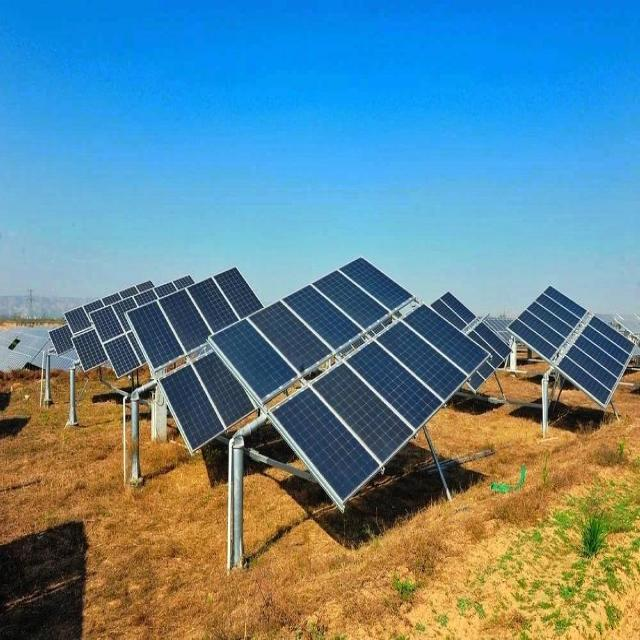no faulty: (274, 381, 379, 507), (313, 361, 411, 468), (344, 338, 442, 440), (206, 318, 296, 412), (404, 303, 488, 387), (248, 300, 332, 382), (156, 360, 216, 460), (192, 350, 260, 434), (286, 284, 362, 352), (312, 272, 386, 331), (334, 254, 406, 311), (124, 300, 184, 368), (186, 276, 242, 336), (559, 356, 613, 417), (507, 318, 555, 377)
